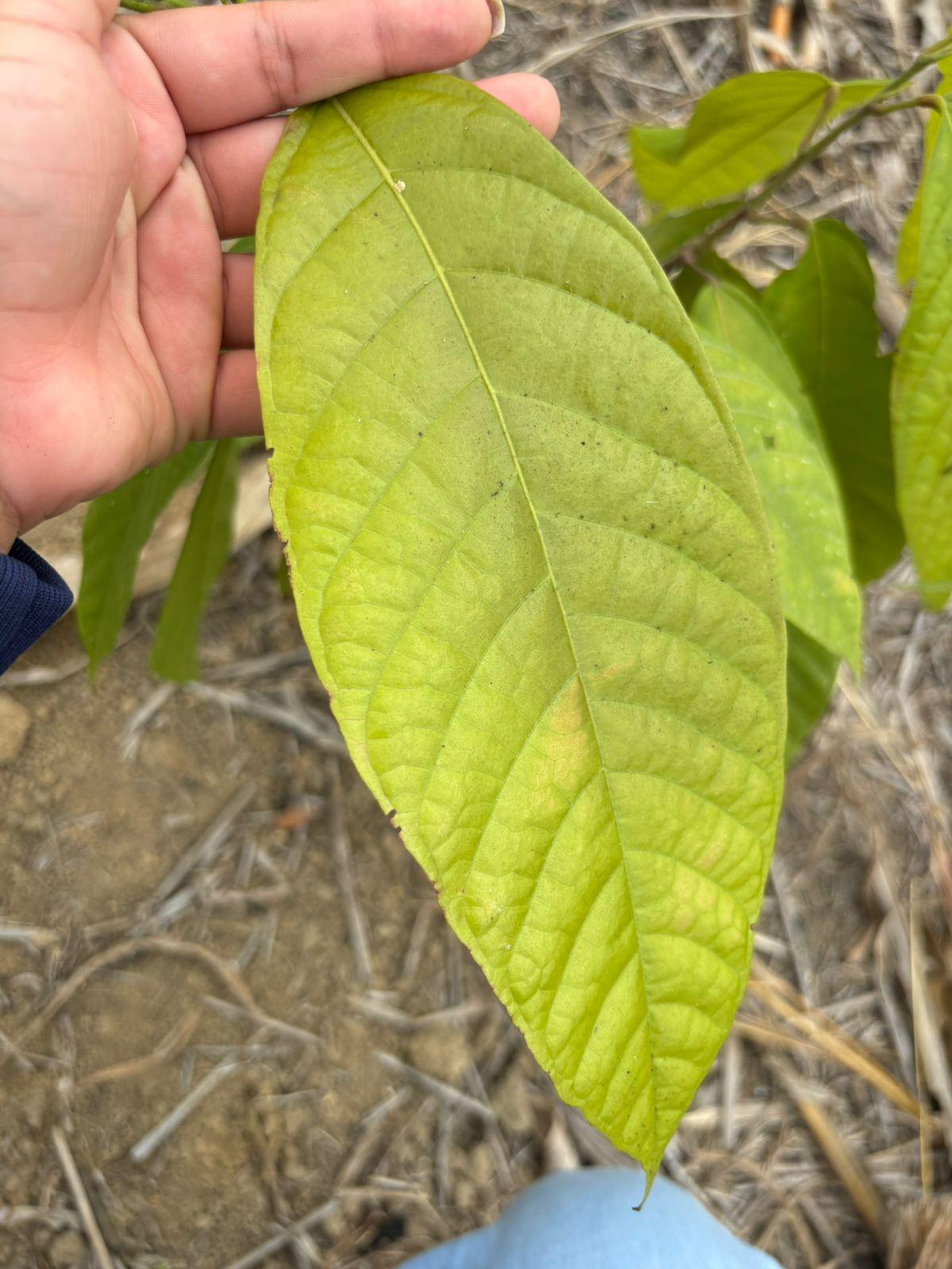deficiencia_nitrogeno: (255, 75, 785, 1170)
